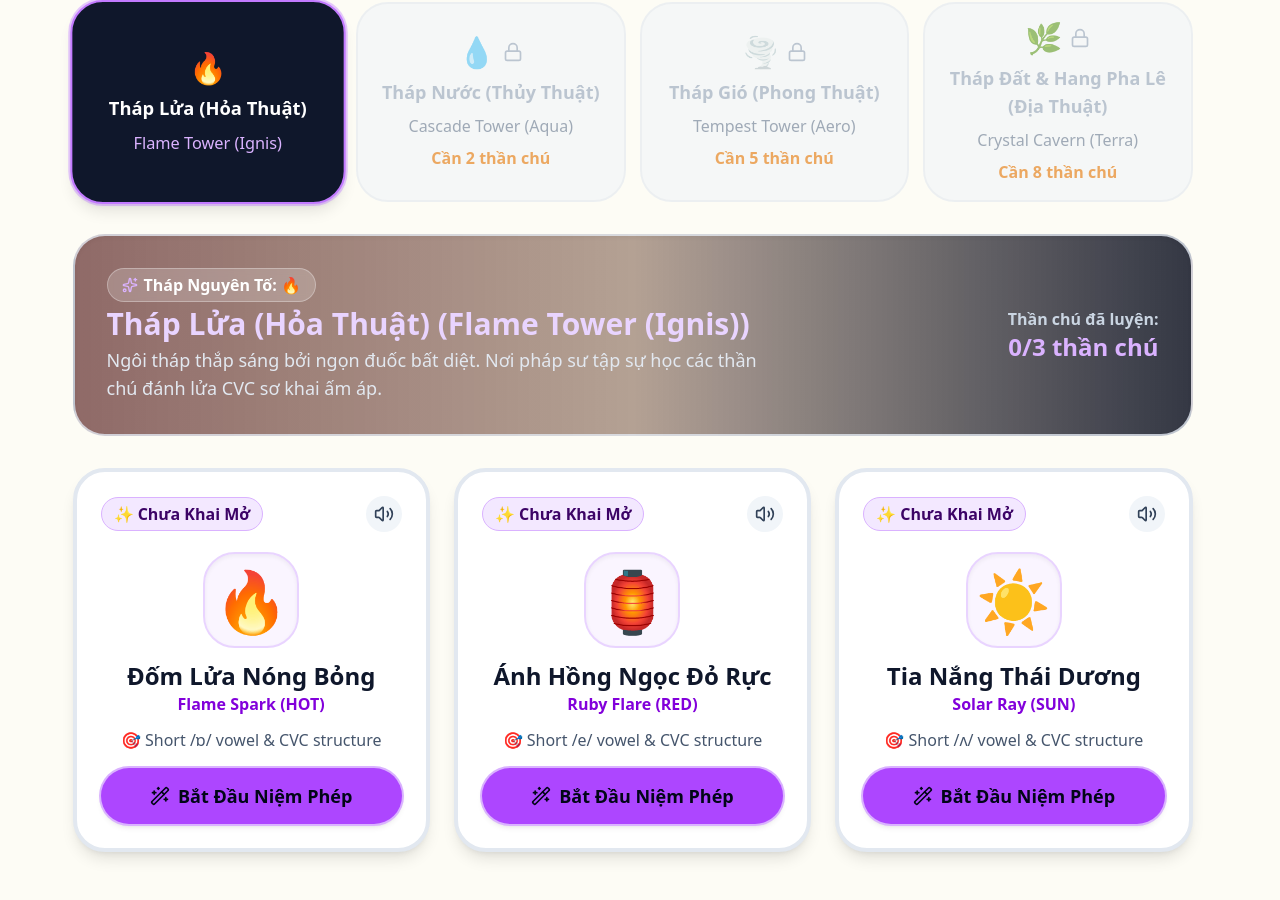
Phonics Magic Academy UI Components › PhonicsMagicExperience Main Container › renders tower spells, opens incantation modal, and updates mana crystals and rank upon spell completion
(page scrolled)
Expected: the element with test id "magic-spell-card-fire-hot" is shown, [72,468,430,852]
Expected: the element with test id "magic-spell-card-fire-red" is shown, [454,468,811,852]
# Start first spell
Click the button with aria-label "niệm phép thần chú đốm lửa nóng bỏng" at (251, 796), box [100,768,402,824]
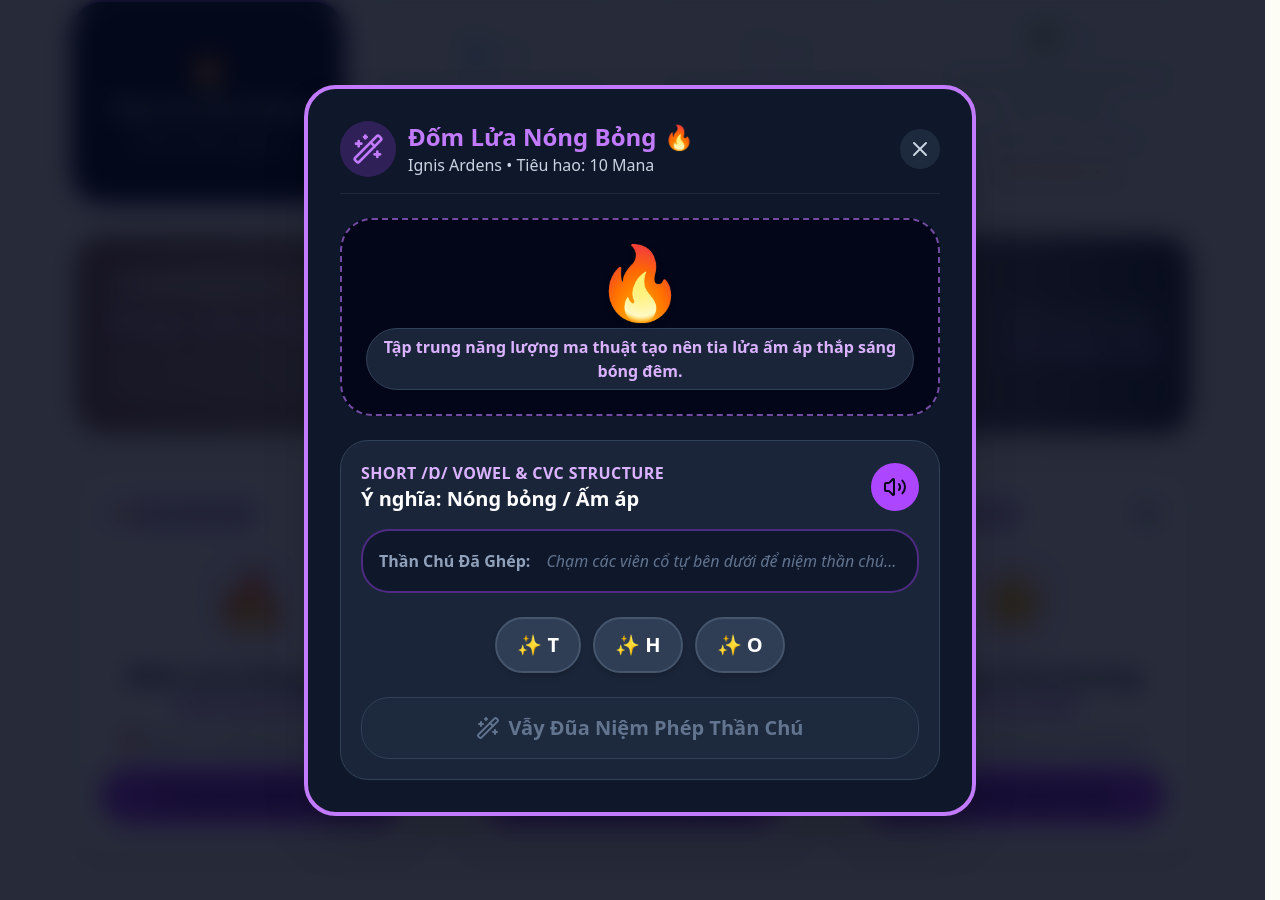
Now the dialog named "điện thờ niệm phép đốm lửa nóng bỏng" is shown
# Form "HOT"
Click the button "✨ H" at (638, 644), box [593,616,683,672]
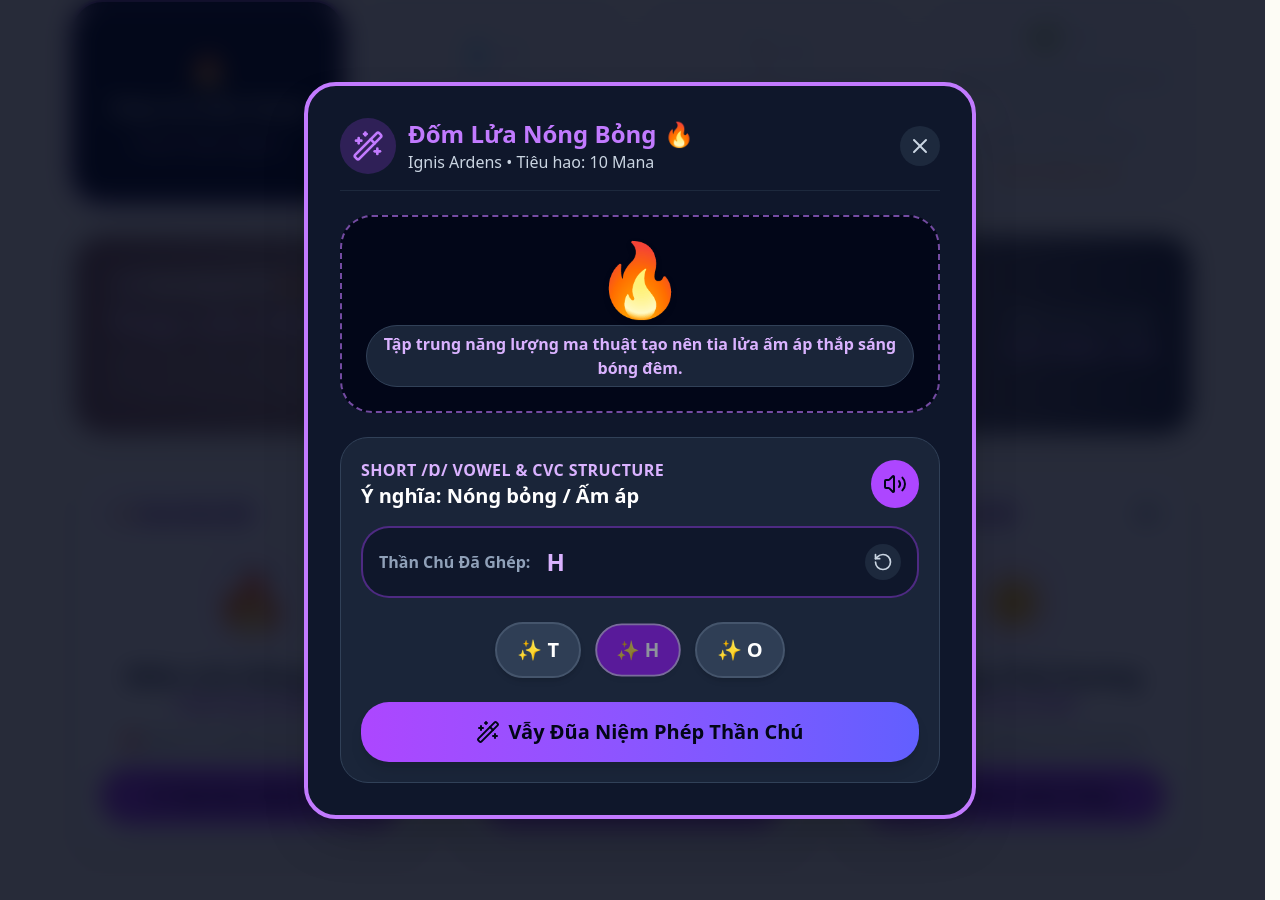
Click the button "✨ O" at (740, 650), box [695,622,785,678]
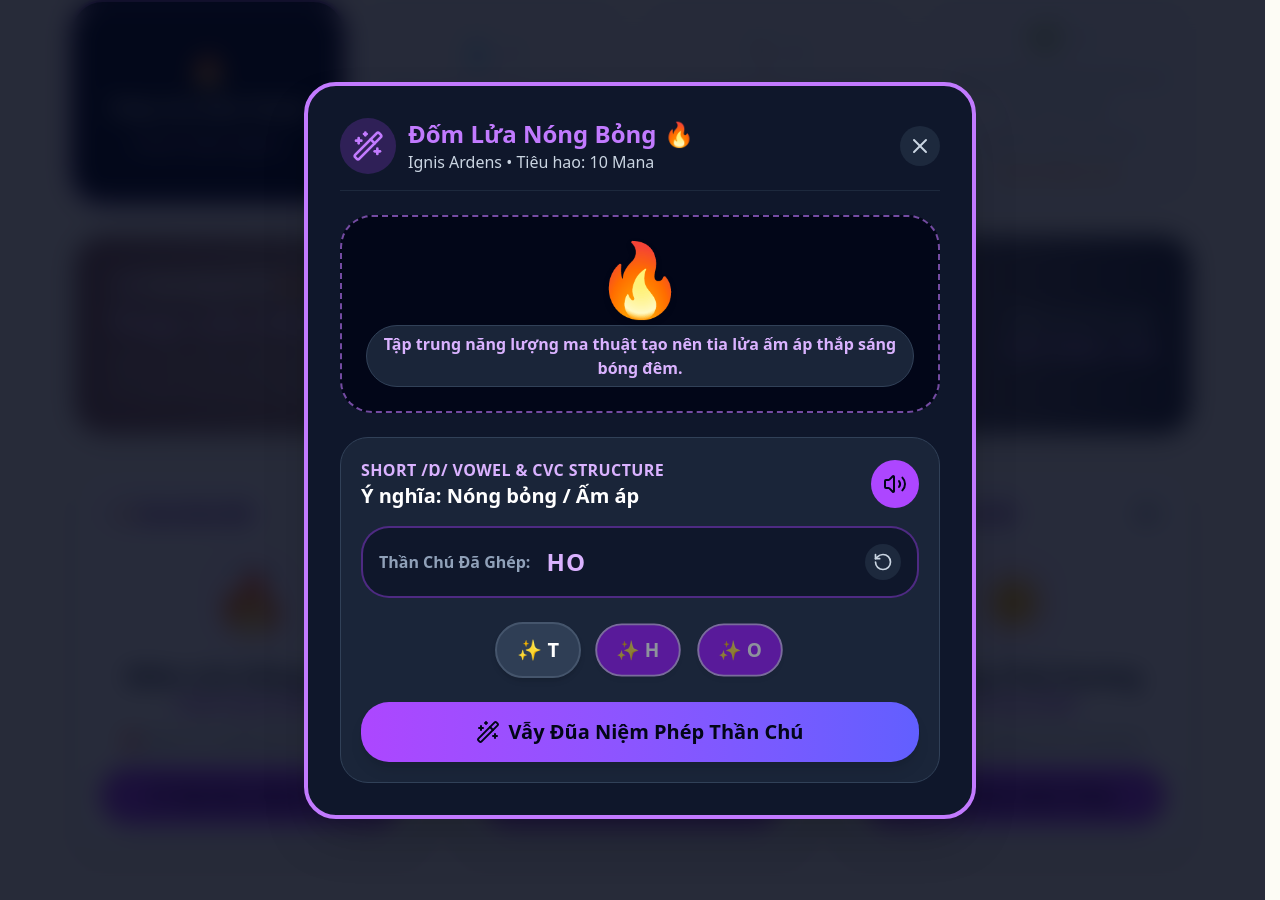
Click the button "✨ T" at (538, 650), box [495,622,581,678]
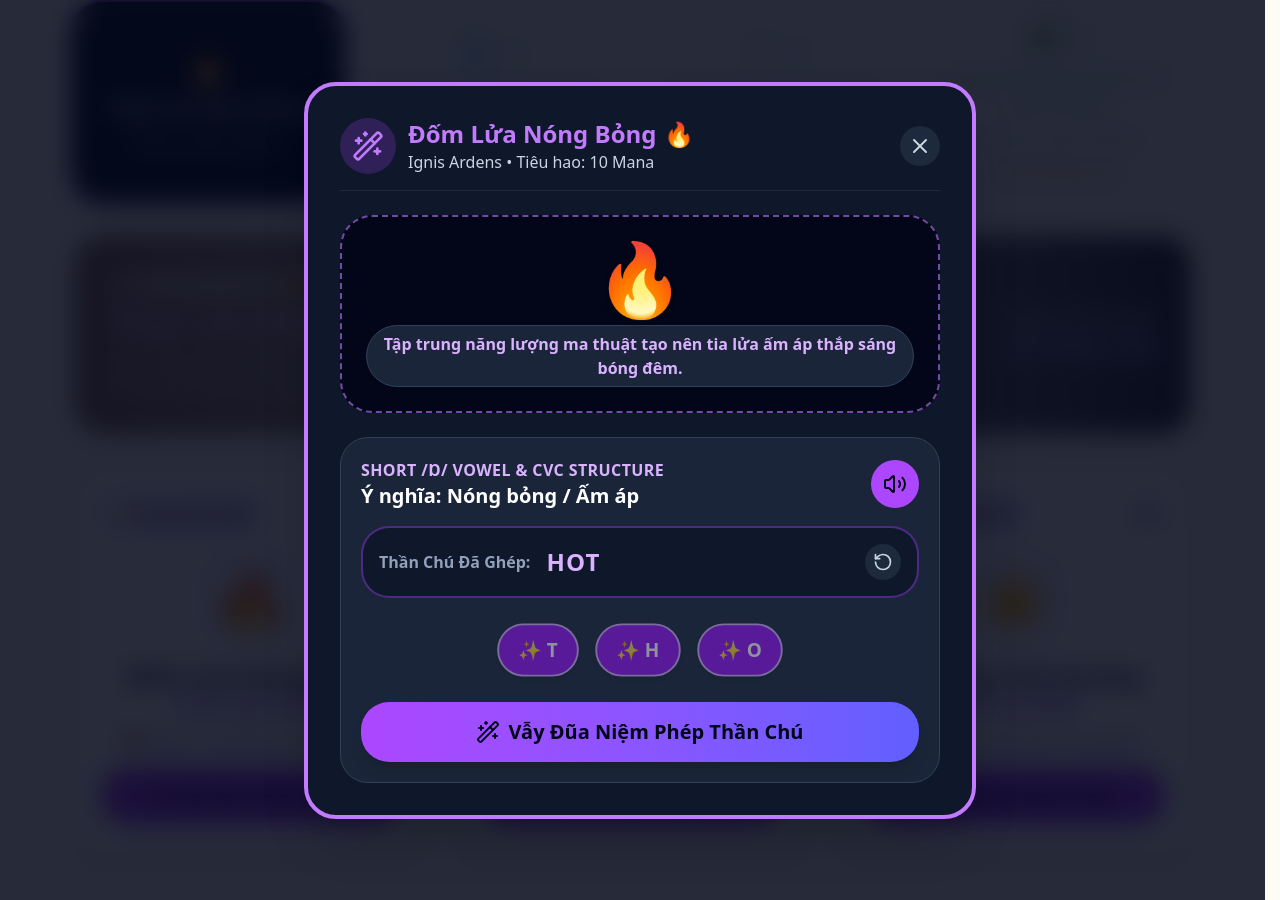
Click the button "Vẫy Đũa Niệm Phép Thần Chú" at (640, 732), box [361,702,919,762]
Wait 1700 ms
(page scrolled)
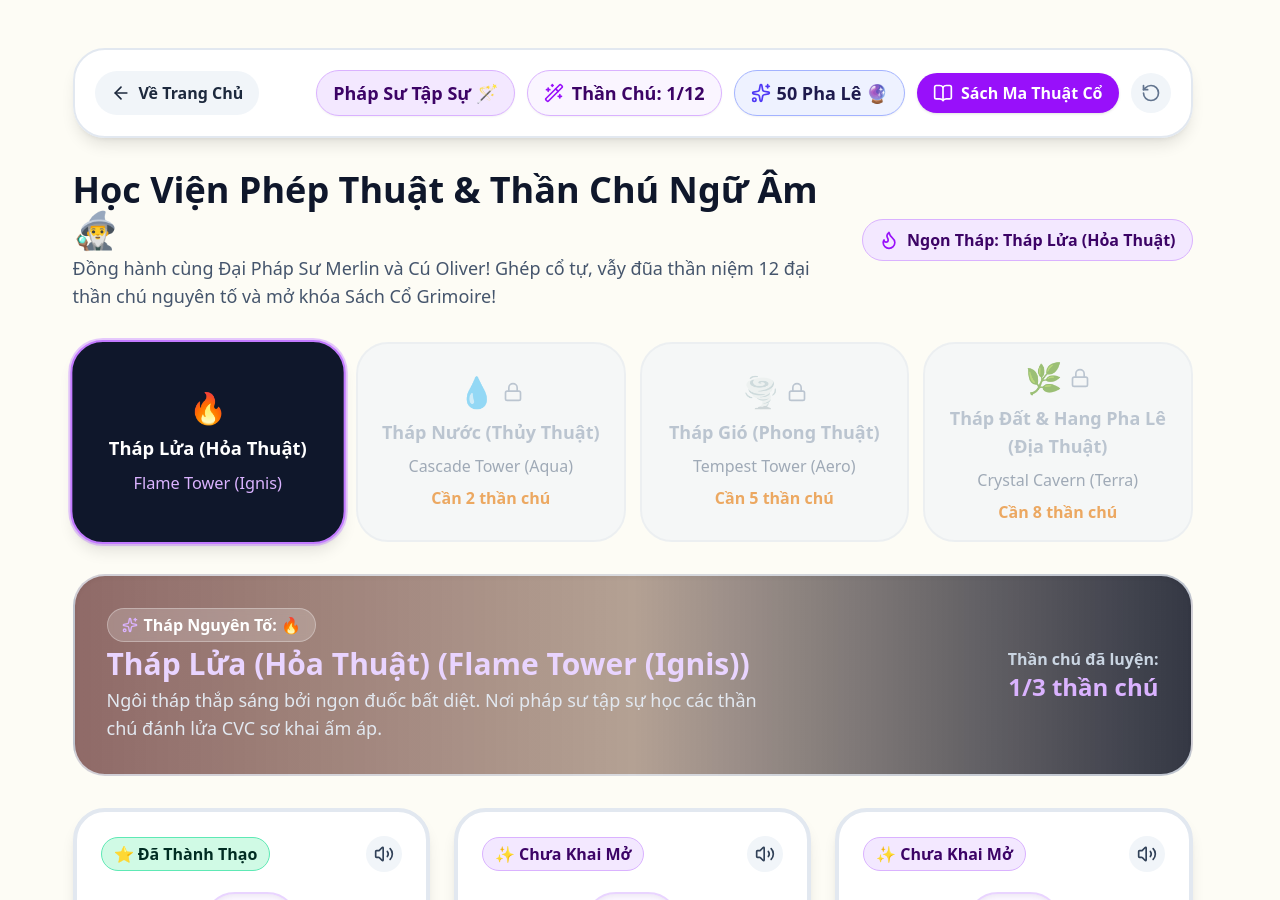
Now the text "Thần Chú: 1/12" is shown, box [572,79,705,107]
Now the text "50 Pha Lê 🔮" is shown, box [777,79,888,107]
